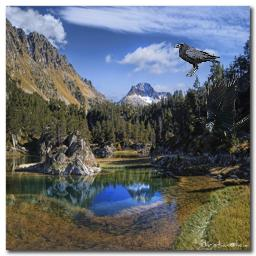Crow: (193, 70, 251, 153), (174, 43, 221, 77)
